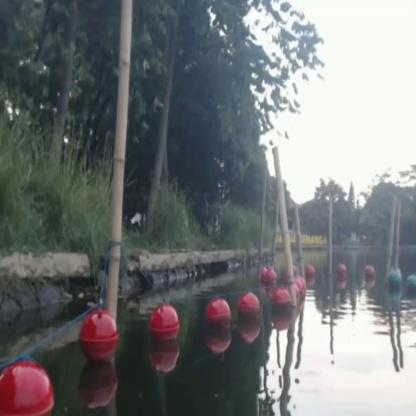green_buoy: (387, 268, 401, 292), (405, 272, 415, 298)
red_buoy: (0, 366, 50, 415), (84, 314, 115, 360), (148, 304, 180, 347), (204, 300, 226, 336), (240, 295, 258, 324), (274, 289, 288, 320), (361, 262, 376, 282), (334, 262, 348, 283), (298, 275, 305, 302), (307, 266, 316, 282), (262, 264, 268, 287), (269, 268, 276, 284)
